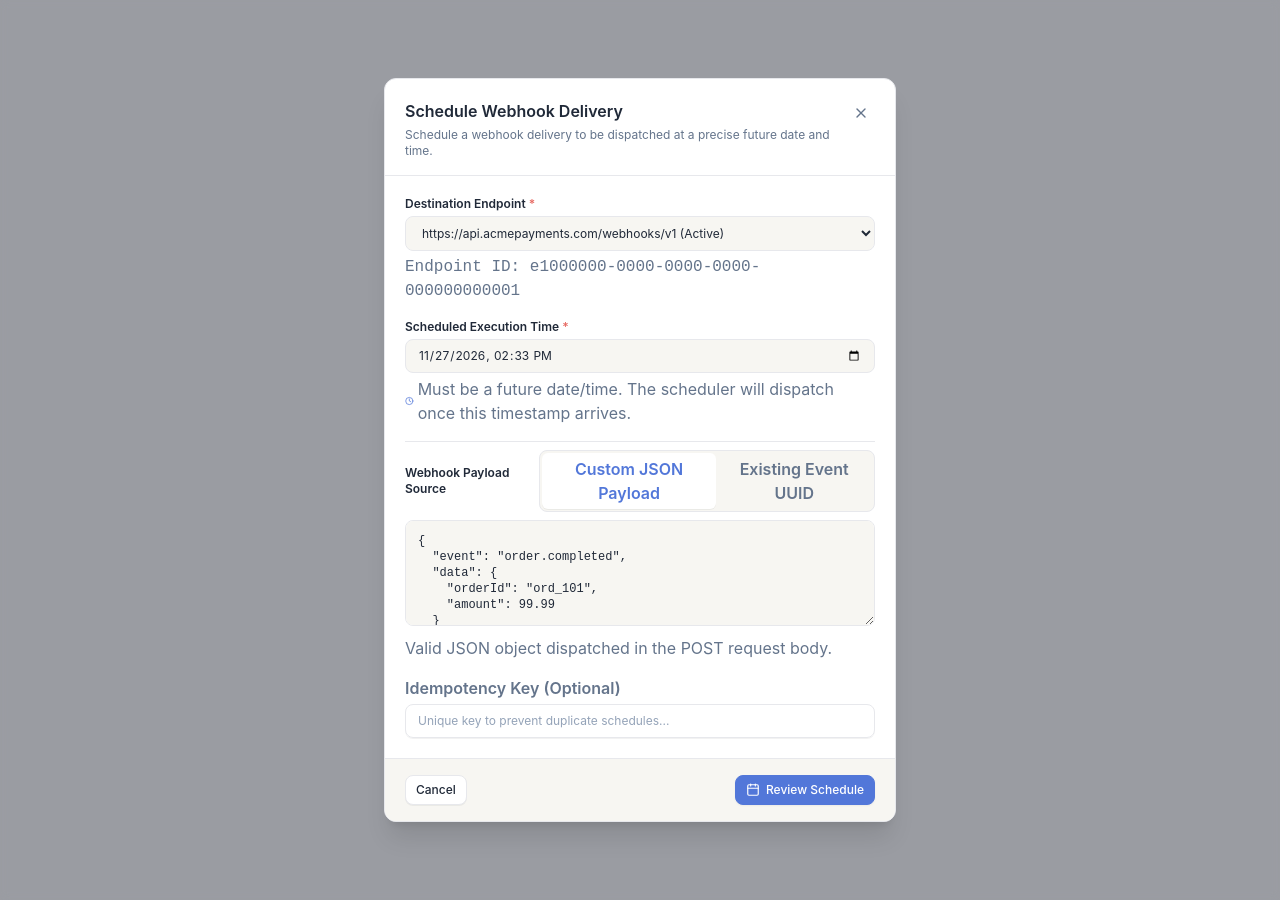
Test: Phase 2, Task 1: Scheduling & Bulk Replay › 4. ScheduleDeliveryModal Component › validates past timestamps and displays error notice
Expected: the heading "Schedule Webhook Delivery" is shown, [405,101,623,121]
// Set datetime input to past
Replace the text in the field labelled "Scheduled Execution Time *" with "2020-01-01T12:00" at (640,356), box [405,339,875,373]
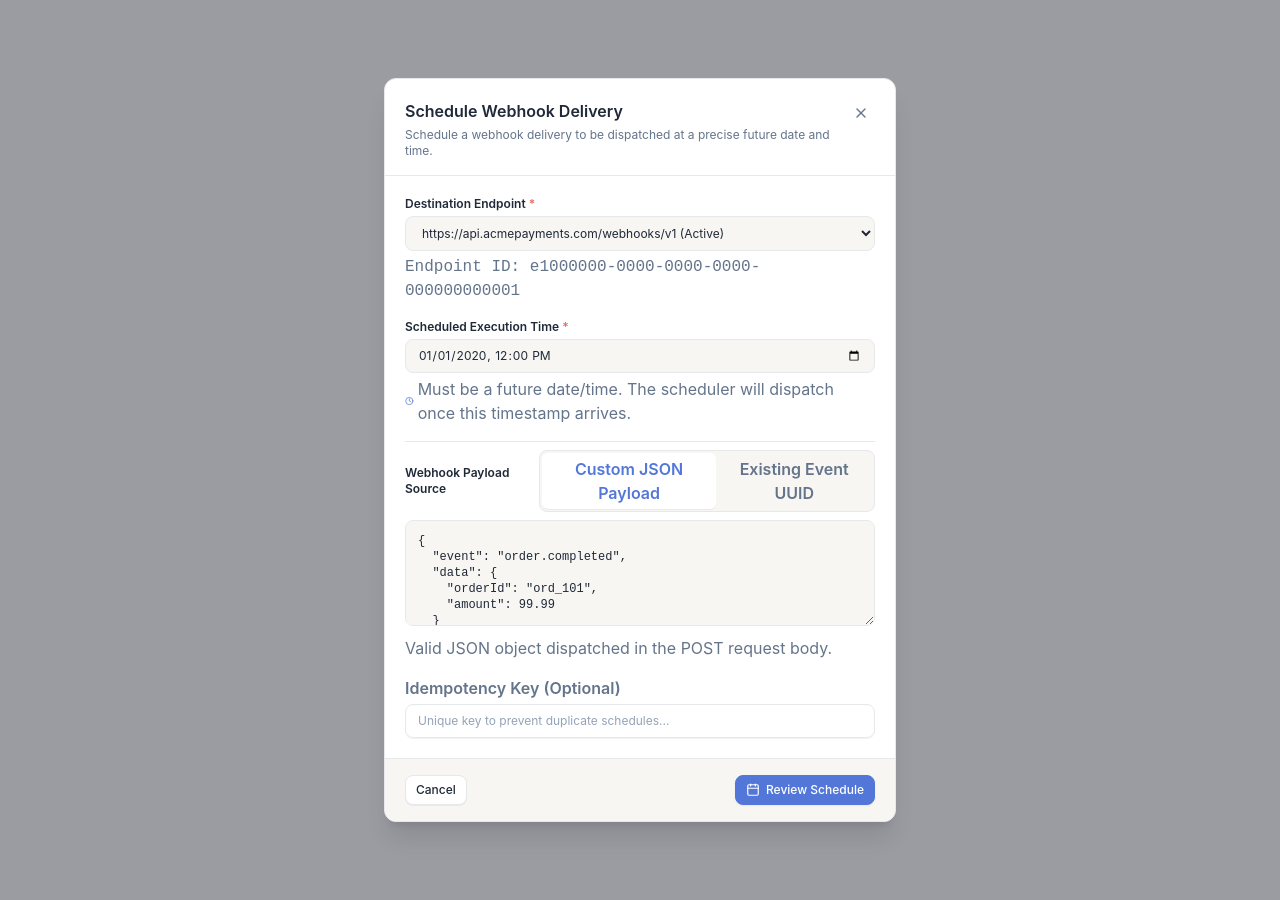
// Click review schedule
Click the button "Review Schedule" at (805,790), box [735,775,875,805]
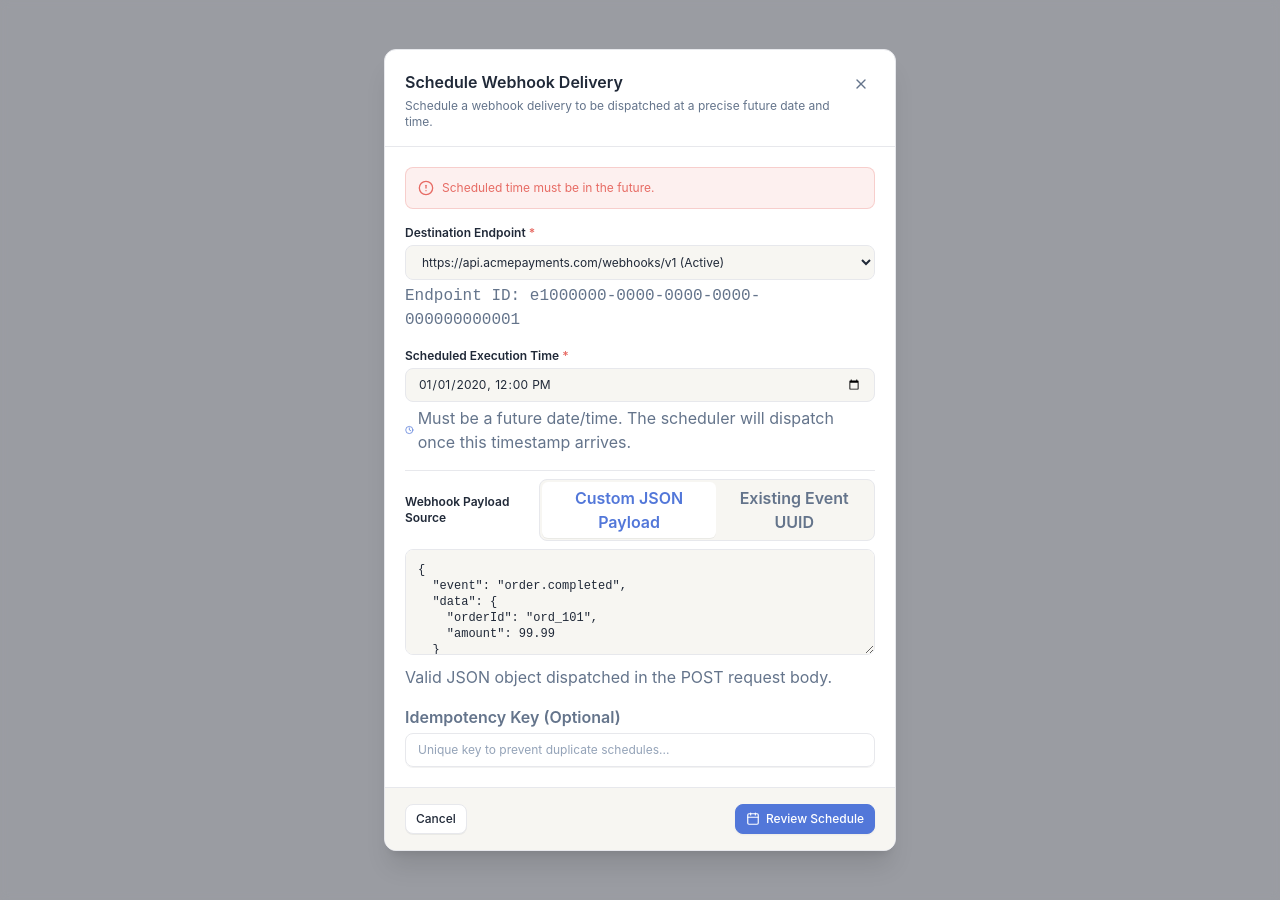
Expected: the text "Scheduled time must be in the future." is shown, [442,180,654,196]
